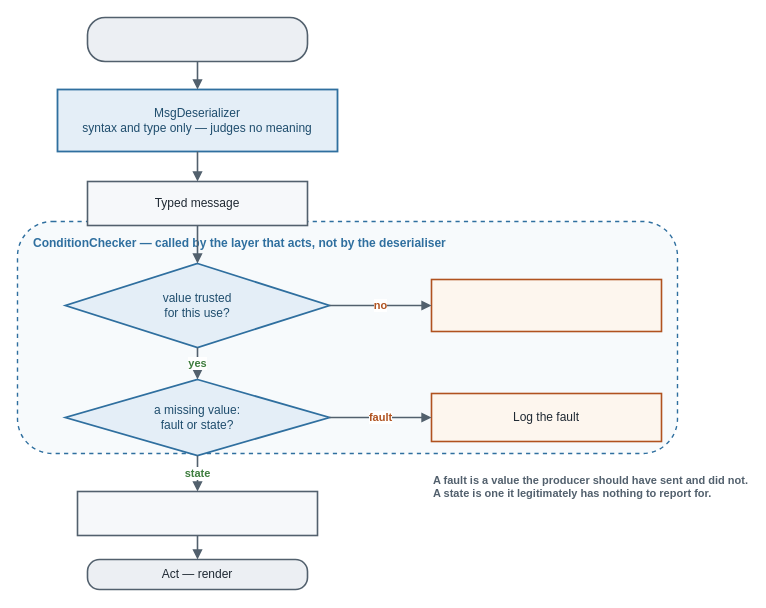
Image size: 766x608. Some labels were removed from this diagram. The shapes that lost their labels are listed below. From the top down, each one's centre as x and y in pixels, then its label:
the point at 197,39: Datagram bytes
the point at 546,305: Draw the unknown-source marker; log ERROR
the point at 197,513: Accept — no log entry
